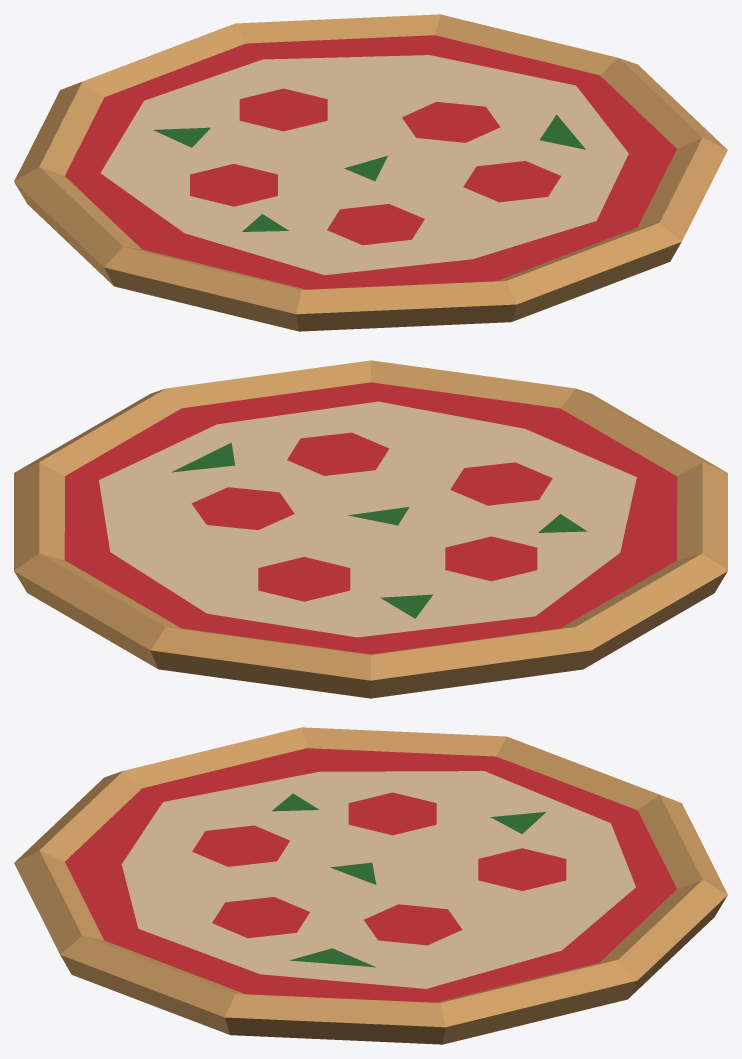
File: food_pizza-cheese.fbx
3 views of the same model, one above another, from view 1: azimuth 30°, elevation 25°; view 2: azimuth 150°, elevation 25°; view 3: azimuth 270°, elevation 25° (orthographic). The views are drawn at different scales.
Visible parts, largest first — view 1: food_pizza_cheese; view 2: food_pizza_cheese; view 3: food_pizza_cheese.
Boxes of the visible parts, left/top/right/bottom form: food_pizza_cheese: left=14, top=14, right=727, bottom=331; food_pizza_cheese: left=14, top=360, right=727, bottom=698; food_pizza_cheese: left=14, top=727, right=727, bottom=1044.
Bounding box in the file's own units: 197 × 11.29 × 200.
